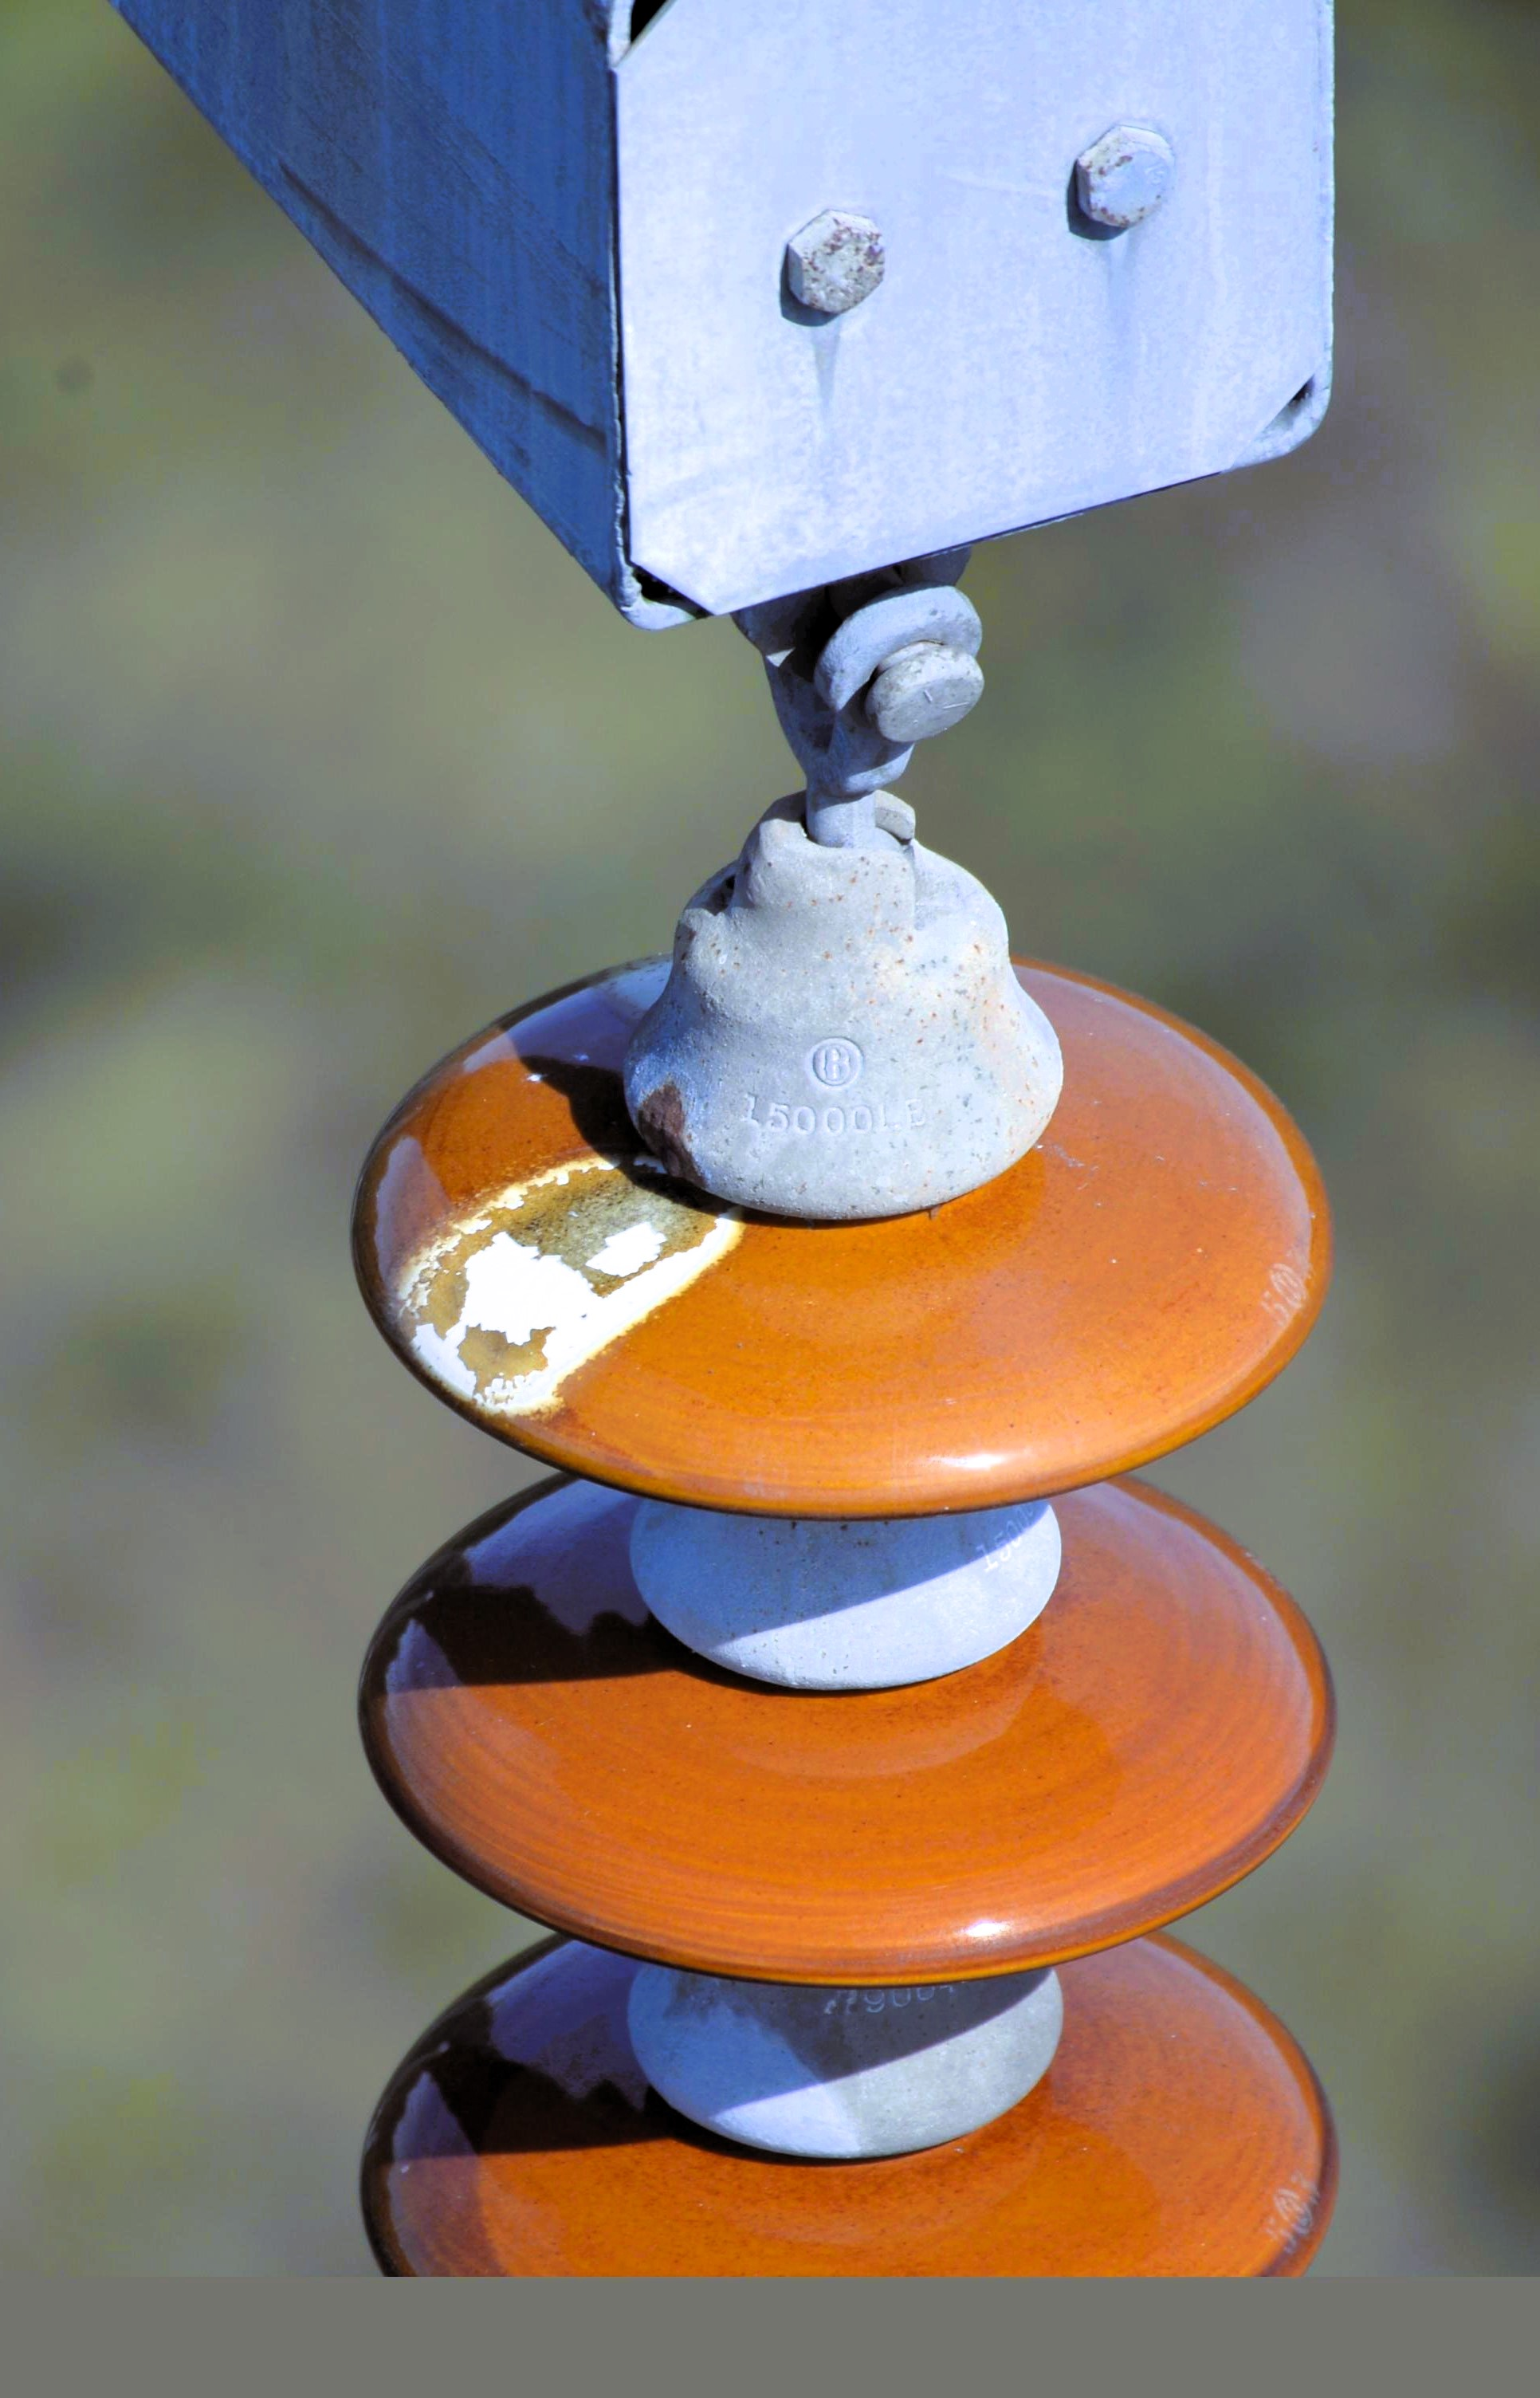Insulator flashover: (327, 916, 1353, 1536)
